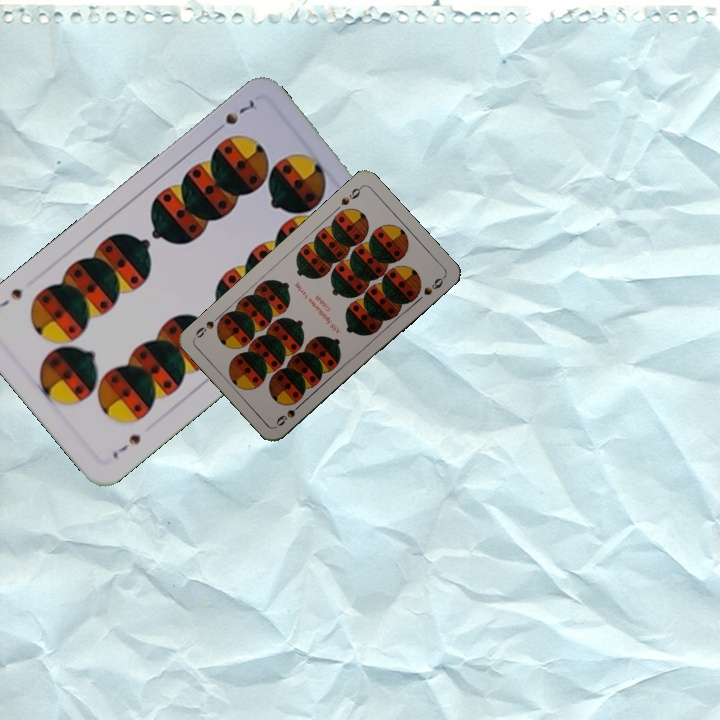S7: (209, 95, 260, 136), (108, 430, 144, 461)
S9: (272, 398, 306, 429), (337, 182, 365, 208)
